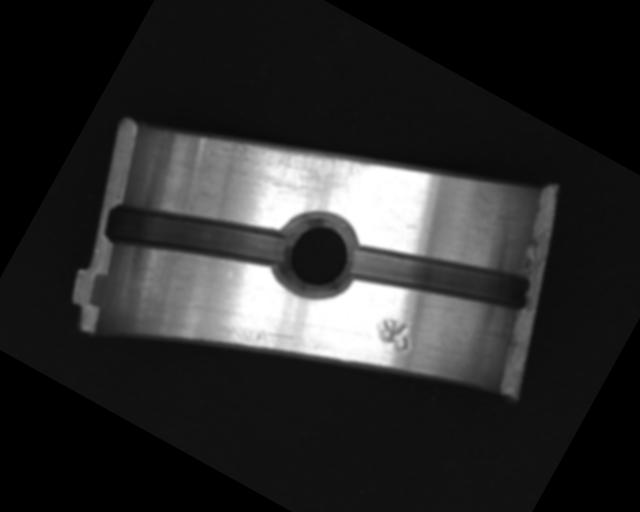bruise: (369, 308, 423, 358)
gap: (96, 155, 297, 320), (346, 201, 536, 356)
hole: (260, 197, 375, 313)
scratch: (215, 91, 385, 227)
